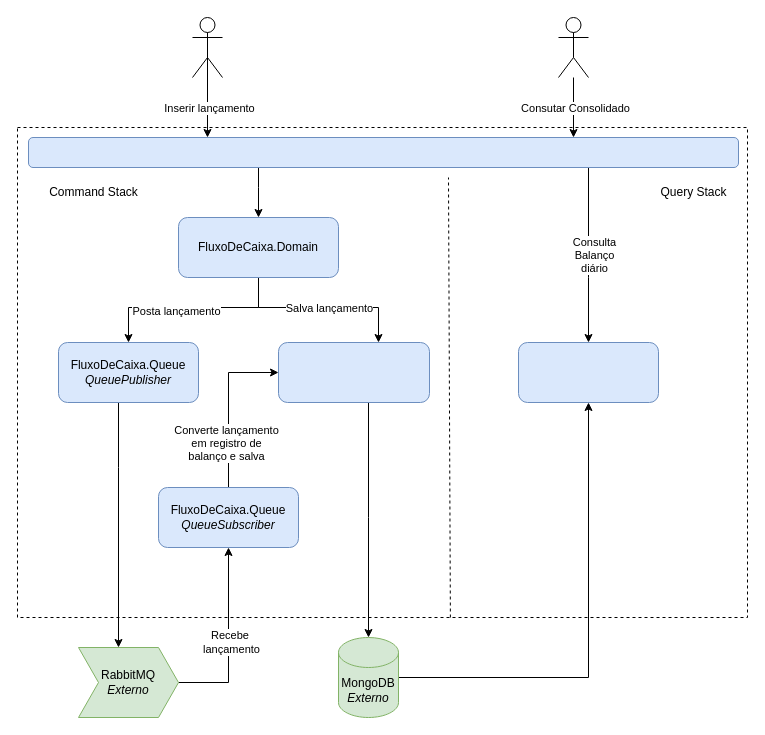
Image size: 765x735. Some labels were removed from this diagram. Each missing label, with the box of its shape:
FluxoDeCaixa.Api: (28, 136, 738, 168)
FluxoDeCaixa.Data Repositório de balanço diário: (518, 342, 658, 402)
FluxoDeCaixa.Data Repositórios: (278, 342, 430, 402)
